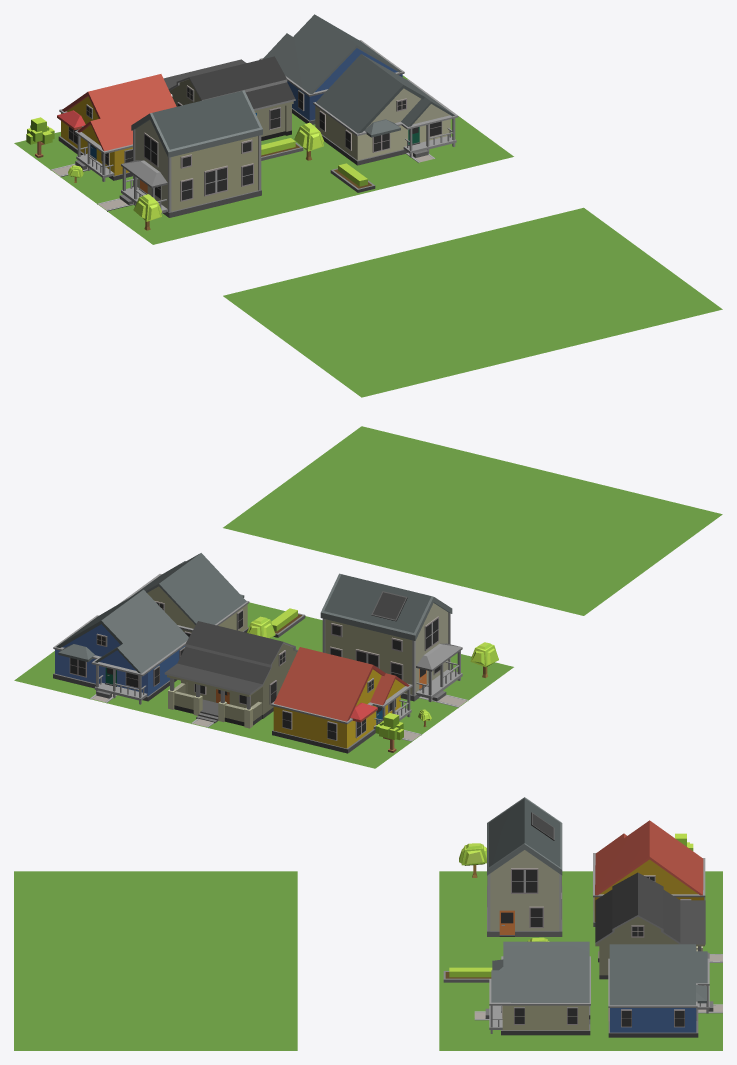
Rendered from Residemtial_hub.FBX.
3 renders of one model, top to bottom at view 1: azimuth 30°, elevation 25°; view 2: azimuth 150°, elevation 25°; view 3: azimuth 270°, elevation 25°, orthographic.
Parts seen in each view (by area): view 1: grass_square_mesh (1), grass_square_mesh, Building_House_04, Building_House_012, Building_House_013, Building_House_014, Building_House_011, tree_large_mesh, Env_Planter, Prop_Tree_02 (1), Env_Planter (1); view 2: grass_square_mesh (1), Building_House_04, Building_House_013, Building_House_014, Building_House_011, grass_square_mesh, Building_House_012, tree_large_mesh, Prop_Tree_02 (2), Env_Planter; view 3: grass_square_mesh (1), grass_square_mesh, Building_House_04, Building_House_012, Building_House_014, Building_House_011, Building_House_013, Env_Planter, Prop_Tree_02 (2).
Part boxes in pixels (x1,y1,x2,y2): grass_square_mesh (1): (223,207,722,397); grass_square_mesh: (14,75,513,244); Building_House_04: (119,90,262,217); Building_House_012: (313,54,458,165); Building_House_013: (57,74,176,181); Building_House_014: (259,14,404,124); Building_House_011: (163,56,295,140); tree_large_mesh: (26,117,54,157); Env_Planter: (330,163,375,192); Prop_Tree_02 (1): (294,122,323,160); Env_Planter (1): (261,138,303,160); grass_square_mesh (1): (223,426,722,615); Building_House_04: (320,573,462,701); Building_House_013: (271,647,412,753); Building_House_014: (53,589,188,704); Building_House_011: (164,621,297,728); grass_square_mesh: (14,602,513,768); Building_House_012: (119,553,249,636); tree_large_mesh: (375,713,403,752); Prop_Tree_02 (2): (470,642,498,677); Env_Planter: (271,608,305,637); grass_square_mesh (1): (14,871,297,1050); grass_square_mesh: (439,871,722,1050); Building_House_04: (487,797,562,936); Building_House_012: (485,941,590,1035); Building_House_014: (608,944,713,1037); Building_House_011: (595,872,709,979); Building_House_013: (593,820,705,926); Env_Planter: (443,967,492,982); Prop_Tree_02 (2): (459,843,486,877).
Size of the model in its own units: 61022 by 14626 by 100007.
Materials: 4 (3 with a texture image).
